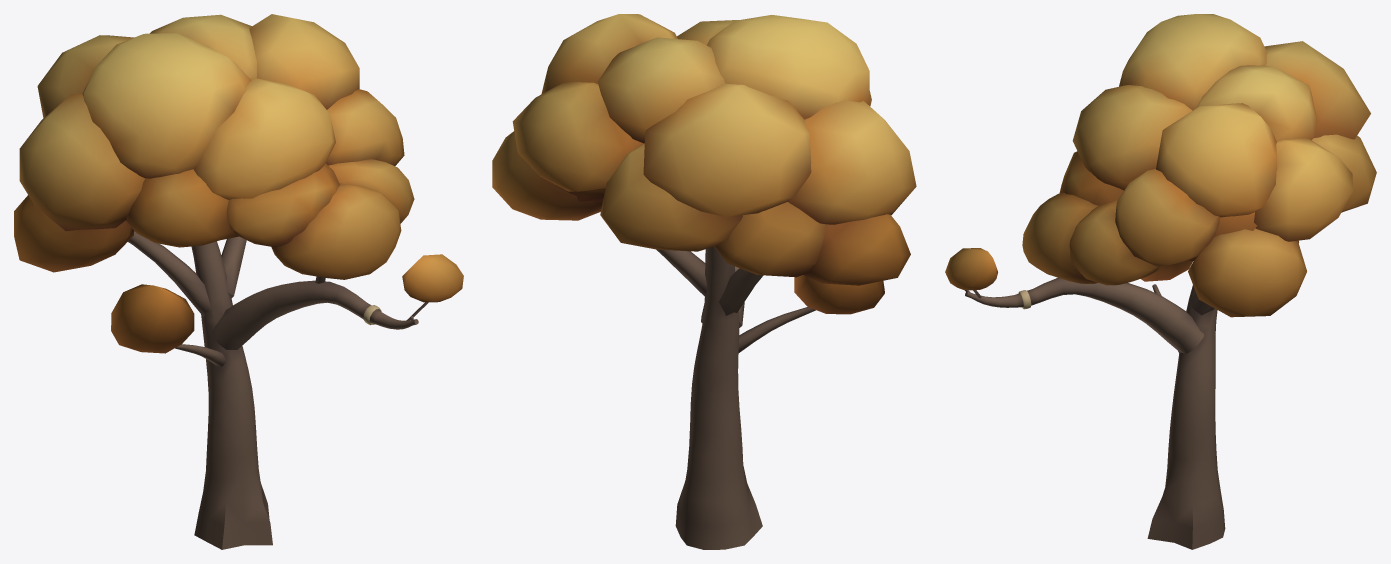
Rendered from SwingTree.fbx.
The picture shows the model from 3 angles, left to right: view 1: azimuth 30°, elevation 25°; view 2: azimuth 150°, elevation 25°; view 3: azimuth 270°, elevation 25°; orthographic projection. The views are drawn at different scales.
Parts seen in each view (by area): view 1: SwingTree; view 2: SwingTree; view 3: SwingTree.
Part boxes in pixels (x1,y1,x2,y2): SwingTree: (14, 14, 463, 549); SwingTree: (492, 14, 916, 549); SwingTree: (945, 14, 1376, 549).
Size of the model in its own units: 6.16 by 7.9 by 6.5.
